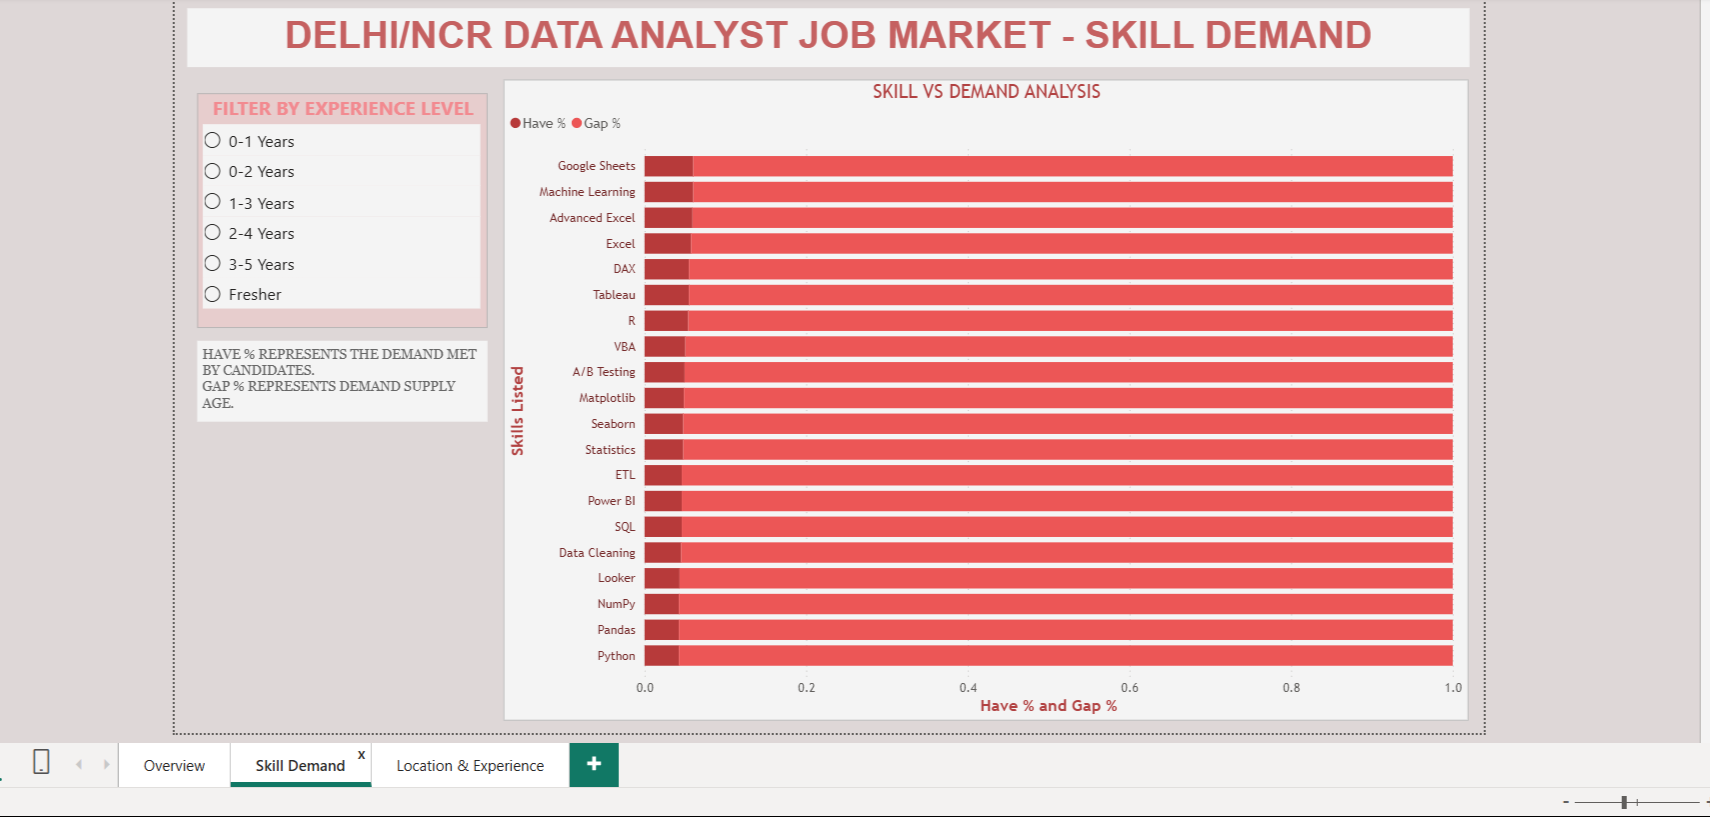

Layout of this report page (visuals, bound fields, positions):
{"tool":"powerbi","page":{"name":"Skill Demand","canvas":[1280,720],"ordinal":1},"visuals":[{"type":"barChart","title":"SKILL VS DEMAND ANALYSIS","fields":{"Category":["Job Postings.Skills Listed"],"Y":["Job Postings.Have %","Job Postings.Gap %"]},"box":[321.6,80.7,944,627.3],"z":0},{"type":"textbox","box":[12.2,11,1254.6,57.5],"z":1000},{"type":"listSlicer","title":"FILTER BY EXPERIENCE LEVEL","fields":{"Values":["Job Postings.Experience Required"]},"box":[22,94.2,283.7,229.9],"z":2000},{"type":"textbox","box":[22,336.3,283.7,79.5],"z":2001}]}

Visuals, with their boxes on the page's 1280x720 design canvas (x1, y1, x2, y2). These are canvas units, not pixel positions in the 1710x817 screenshot, which may show the page scaled, cropped or inside an application window:
"SKILL VS DEMAND ANALYSIS" barChart: BBox(322, 81, 1266, 708)
textbox: BBox(12, 11, 1267, 68)
"FILTER BY EXPERIENCE LEVEL" listSlicer: BBox(22, 94, 306, 324)
textbox: BBox(22, 336, 306, 416)
